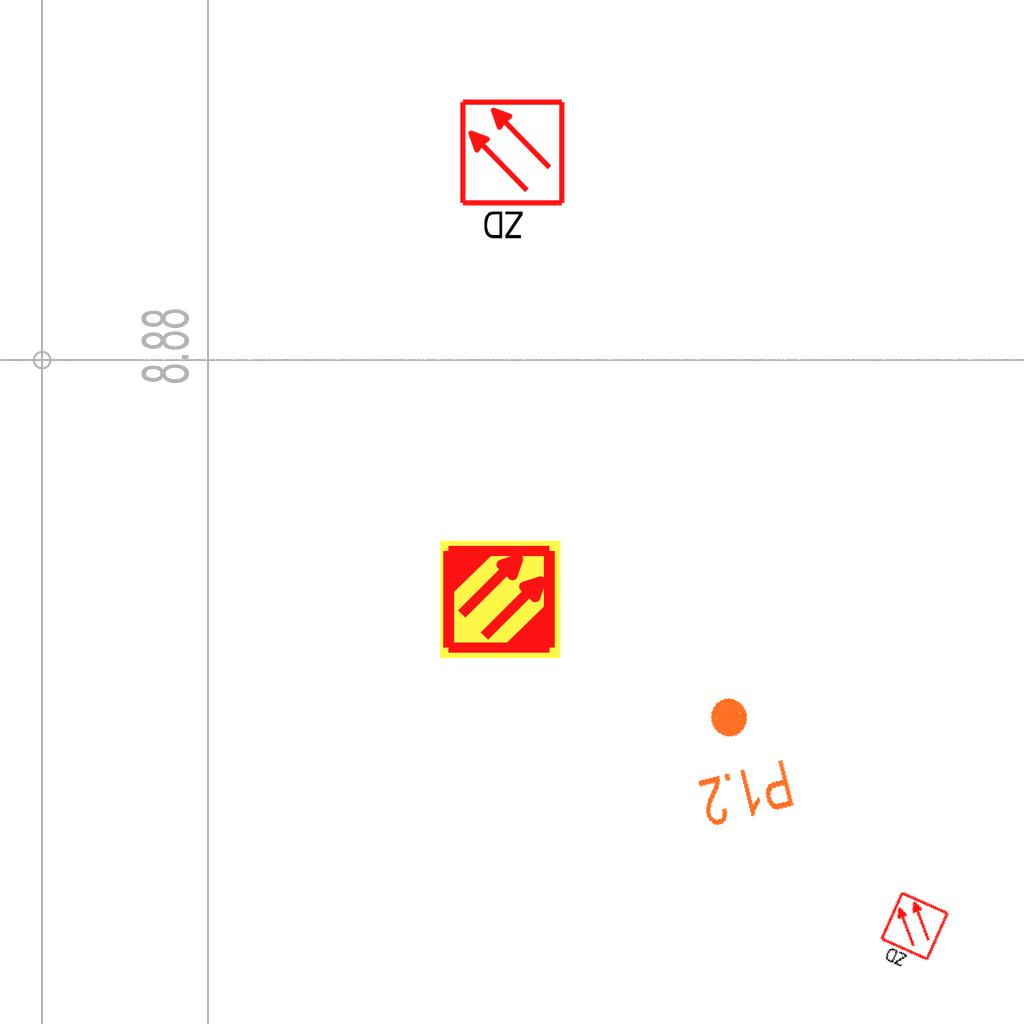ASR_Ansaugrauchmelder: (438, 537, 563, 662)
Downlight_LED_Einbauleuchten_Flur: (676, 684, 799, 832)
ZD_Melder_in_Zwischendecke_mit_Revisionsoeffnung_mind_40_x_40_cm: (457, 97, 571, 246), (870, 889, 953, 981)
